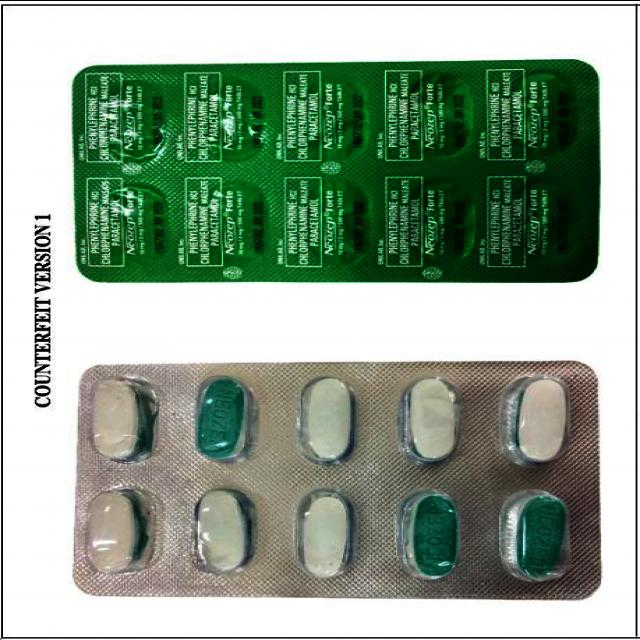counterfeit: (67, 353, 602, 604), (76, 53, 596, 284)
